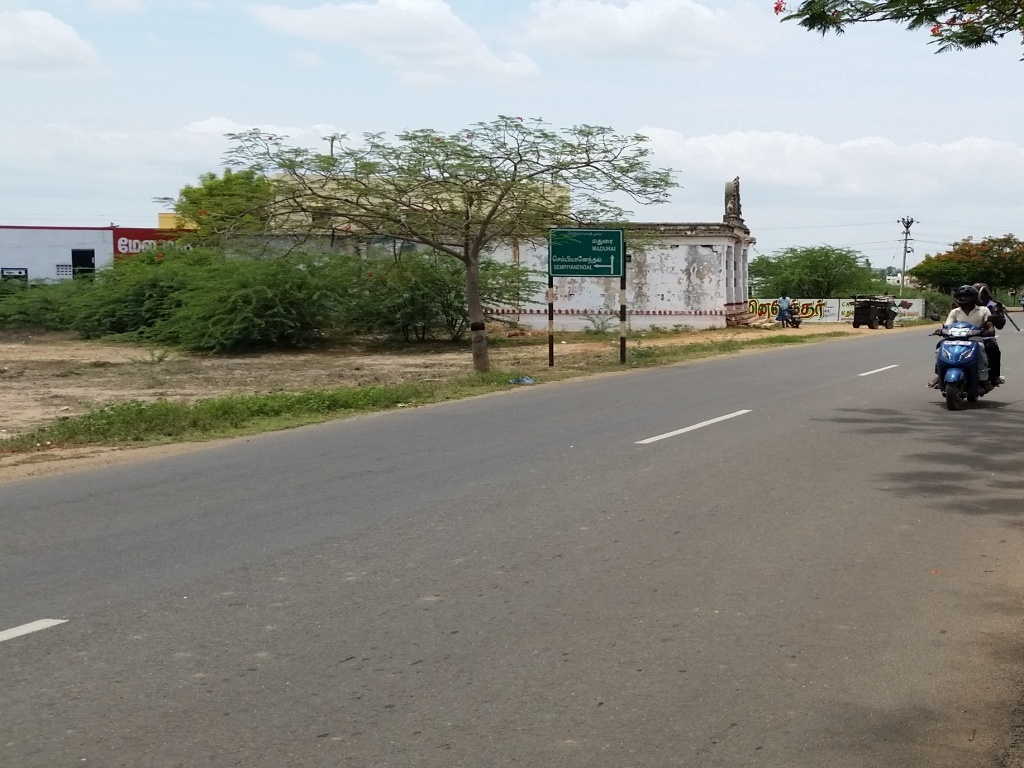biker: (917, 259, 1023, 415)
helmet: (953, 286, 977, 310)
nohelmet: (975, 280, 994, 306)
